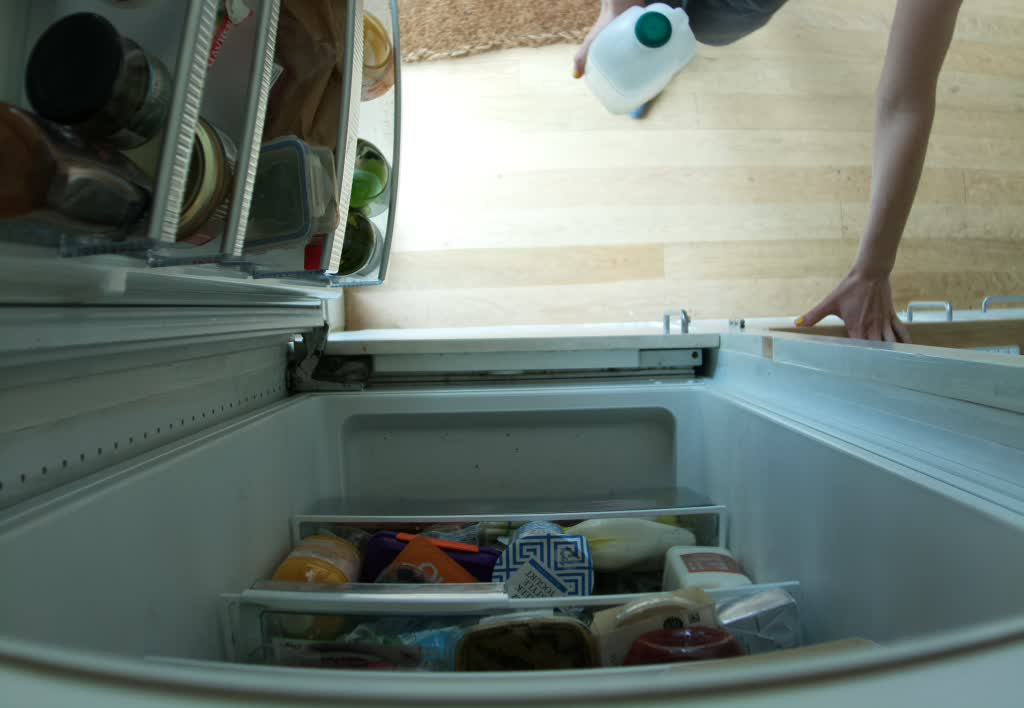milk: (580, 1, 701, 126)
